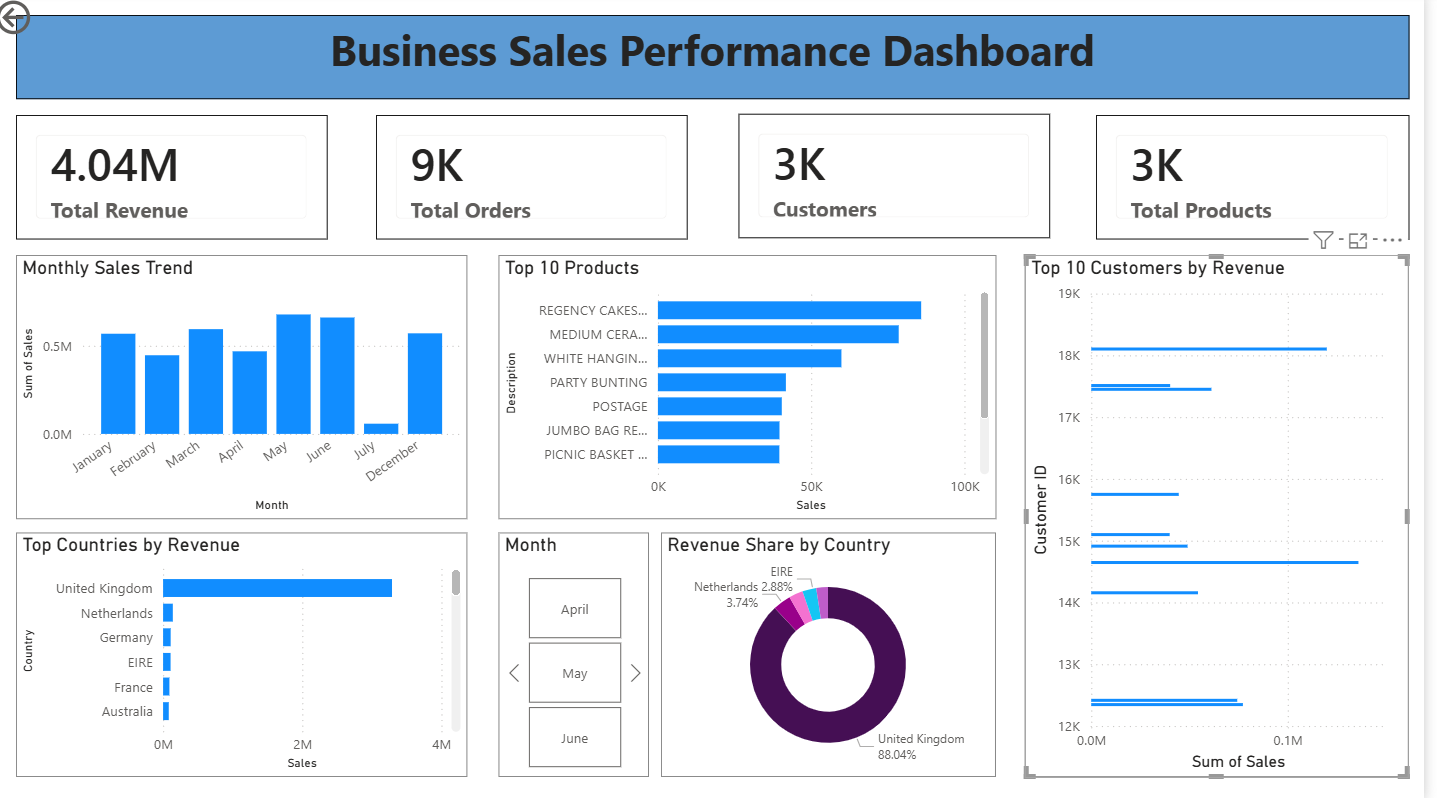

This screenshot's page, from the dashboard's own definition file:
{"tool":"powerbi","page":{"name":"Page 1","canvas":[1280,720],"ordinal":0},"visuals":[{"type":"cardVisual","title":"Total Sales","fields":{"Data":["Sum(online_retail_final.Sales)"]},"box":[22,107,278.6,111.1],"z":0},{"type":"cardVisual","fields":{"Data":["online_retail_final.Total Orders"]},"box":[344.4,107,278.6,111],"z":1},{"type":"cardVisual","fields":{"Data":["online_retail_final.Total Customers"]},"box":[668.3,105.7,278.6,111.1],"z":2},{"type":"cardVisual","fields":{"Data":["online_retail_final.Total Products"]},"box":[986.6,107,279.9,111],"z":3},{"type":"textbox","box":[22,17.8,1244.6,75.5],"z":4},{"type":"clusteredColumnChart","title":"Monthly Sales Trend","fields":{"Category":["online_retail_final.Month"],"Y":["Sum(online_retail_final.Sales)"]},"box":[22,231.9,403.4,236],"z":5},{"type":"clusteredBarChart","title":"Top Countries by Revenue ","fields":{"Category":["online_retail_final.Country"],"Y":["Sum(online_retail_final.Sales)"]},"box":[22,480.3,403.4,218.2],"z":6},{"type":"clusteredBarChart","title":"Top 10 Products","fields":{"Category":["online_retail_final.Description"],"Y":["Sum(online_retail_final.Sales)"]},"box":[452.8,231.9,444.6,236],"z":7},{"type":"clusteredBarChart","title":"Top 10 Customers by Revenue","fields":{"Y":["Sum(online_retail_final.Sales)"],"Category":["online_retail_final.CustomerID"]},"box":[923.5,231.9,343.1,466.6],"z":8},{"type":"actionButton","box":[0,0,100,40],"z":10},{"type":"slicer","title":"Month","fields":{"Values":["online_retail_final.Month"]},"box":[452.8,480.3,134.5,218.2],"z":11},{"type":"donutChart","title":"Revenue Share by Country","fields":{"Category":["online_retail_final.Country"],"Y":["Sum(online_retail_final.Sales)"]},"box":[598.3,480.3,299.1,218.2],"z":12}]}

Visuals, with their boxes in screenshot pixels (x1, y1, x2, y2), scaled from the page's 1280x720 canvas onto the 1437x798 screenshot:
"Total Sales" cardVisual: region(25, 119, 337, 242)
cardVisual - online_retail_final.Total Orders: region(387, 119, 699, 242)
cardVisual - online_retail_final.Total Customers: region(750, 117, 1063, 240)
cardVisual - online_retail_final.Total Products: region(1108, 119, 1422, 242)
textbox: region(25, 20, 1422, 103)
"Monthly Sales Trend" clusteredColumnChart: region(25, 257, 478, 519)
"Top Countries by Revenue " clusteredBarChart: region(25, 532, 478, 774)
"Top 10 Products" clusteredBarChart: region(508, 257, 1007, 519)
"Top 10 Customers by Revenue" clusteredBarChart: region(1037, 257, 1422, 774)
actionButton: region(0, 0, 112, 44)
"Month" slicer: region(508, 532, 659, 774)
"Revenue Share by Country" donutChart: region(672, 532, 1007, 774)
